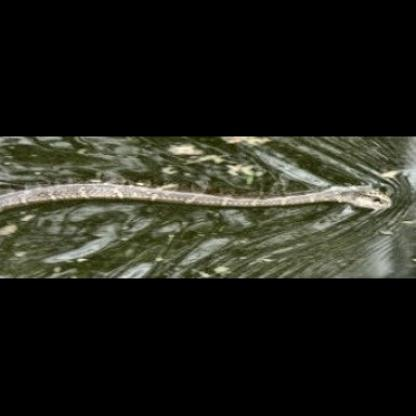Snake: (1, 168, 396, 220)
